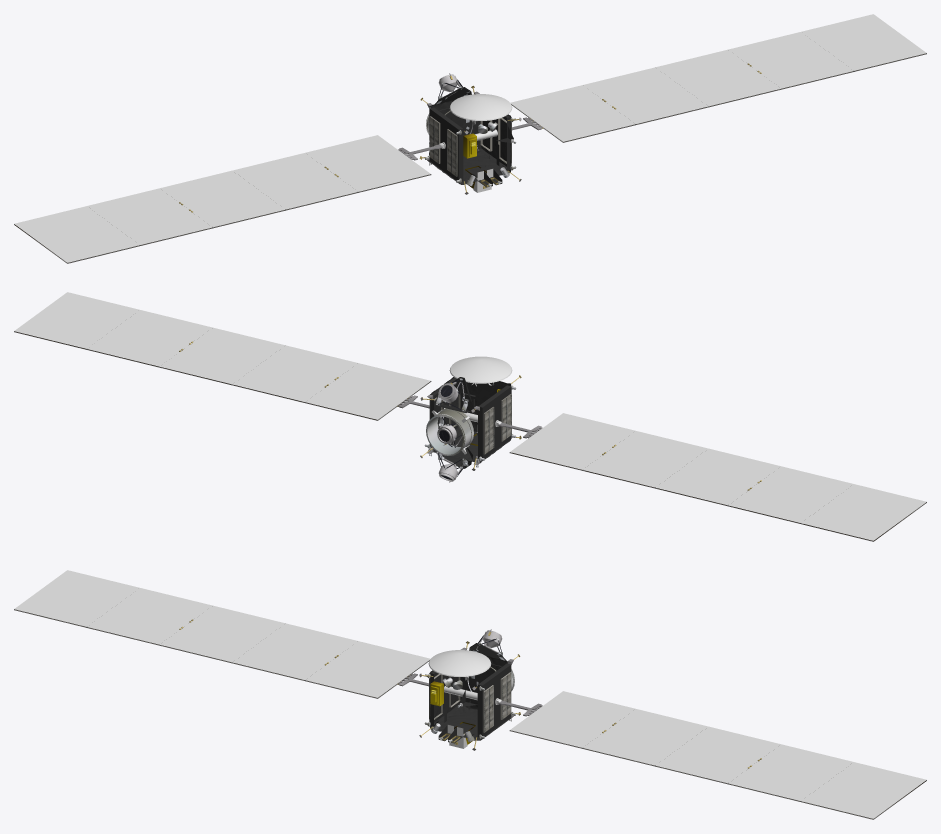
Rendered from dawn_lod0.glb.
3 renders of one model, top to bottom at view 1: azimuth 30°, elevation 25°; view 2: azimuth 150°, elevation 25°; view 3: azimuth 330°, elevation 25°, orthographic.
Visible parts, largest first — view 1: dawn_lod0; view 2: dawn_lod0; view 3: dawn_lod0.
Boxes of the visible parts, x1,y1,x2,y2 form: dawn_lod0: (14, 14, 926, 263); dawn_lod0: (14, 292, 926, 541); dawn_lod0: (14, 570, 926, 819).
Size of the model in its own units: 19.7 by 2.22 by 2.2.
7 materials, 2 textured.
